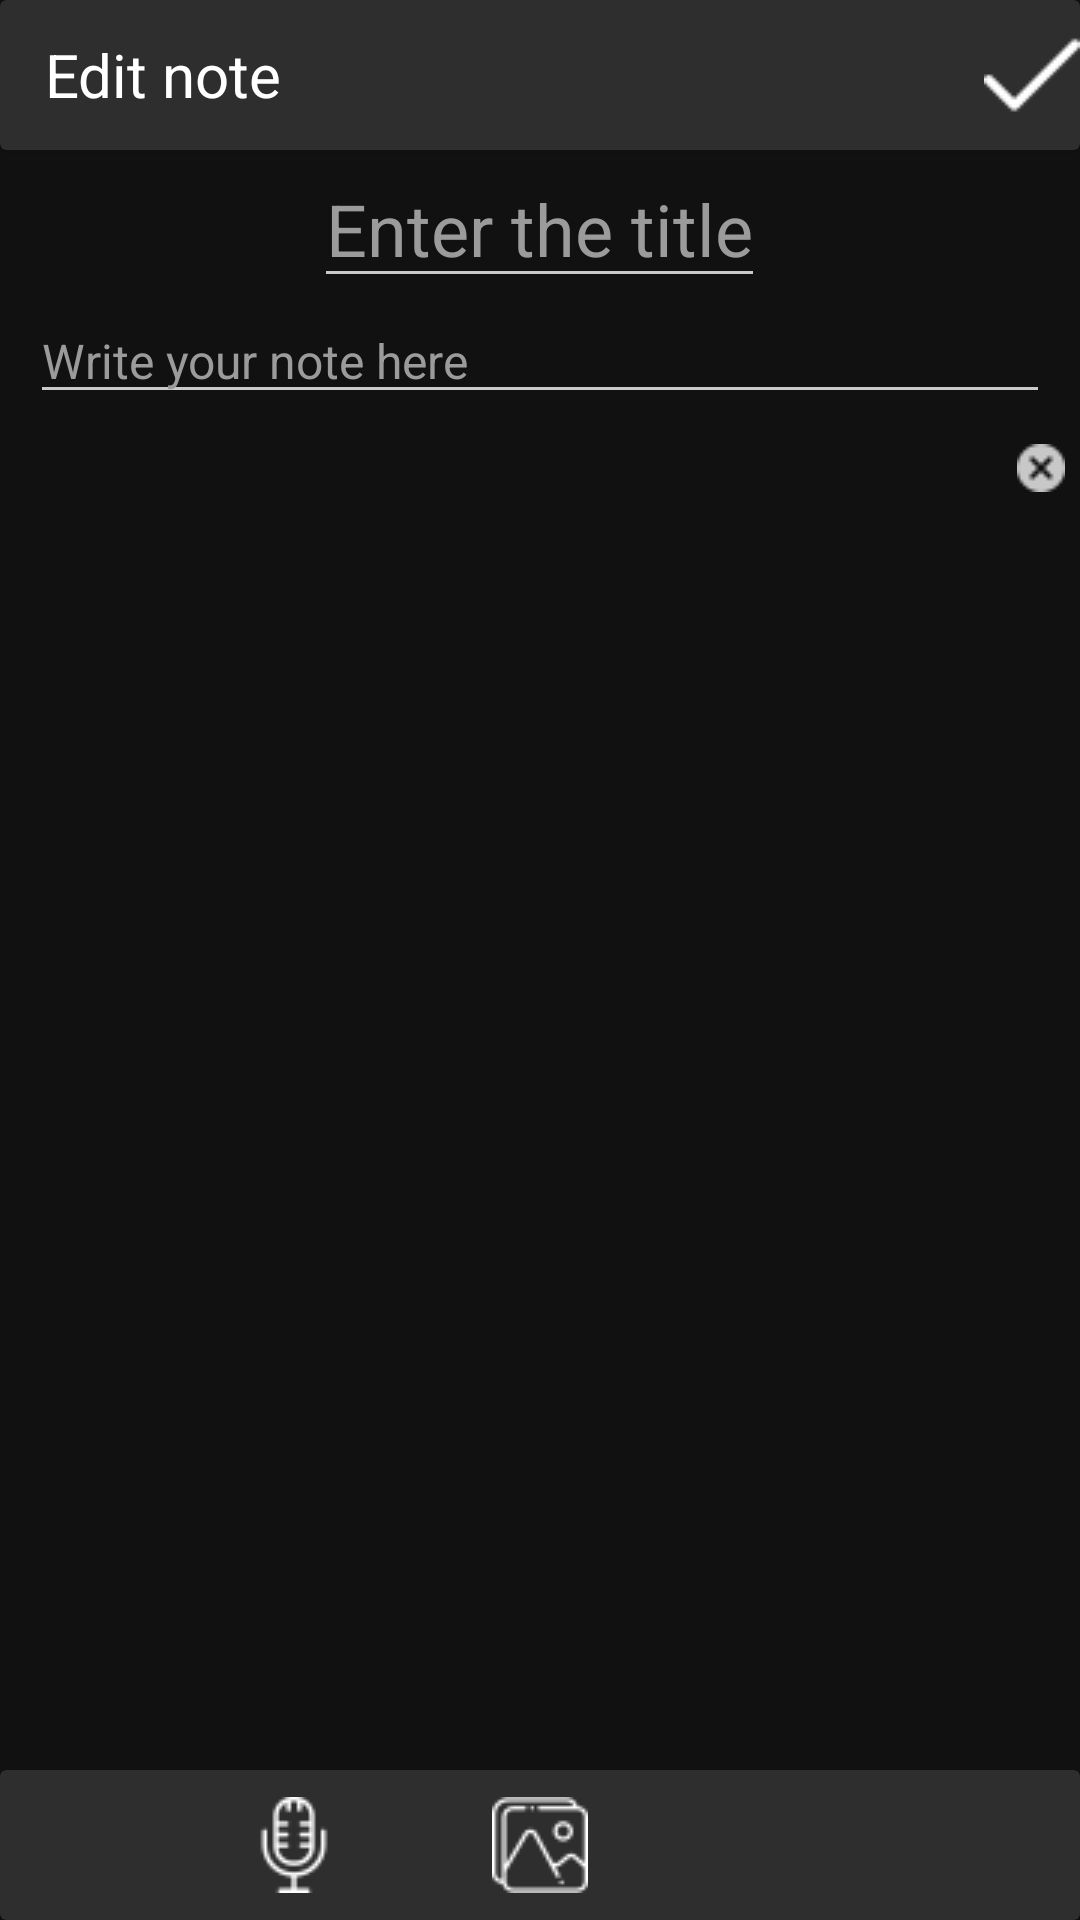

Icons on this 1080 × 1920 Android screen, each with its box as (x1, y1, x2, y2):
confirm: (984, 38, 1080, 112)
delete: (1017, 444, 1065, 492)
gallery: (492, 1797, 588, 1893)
microphone: (260, 1797, 328, 1893)
